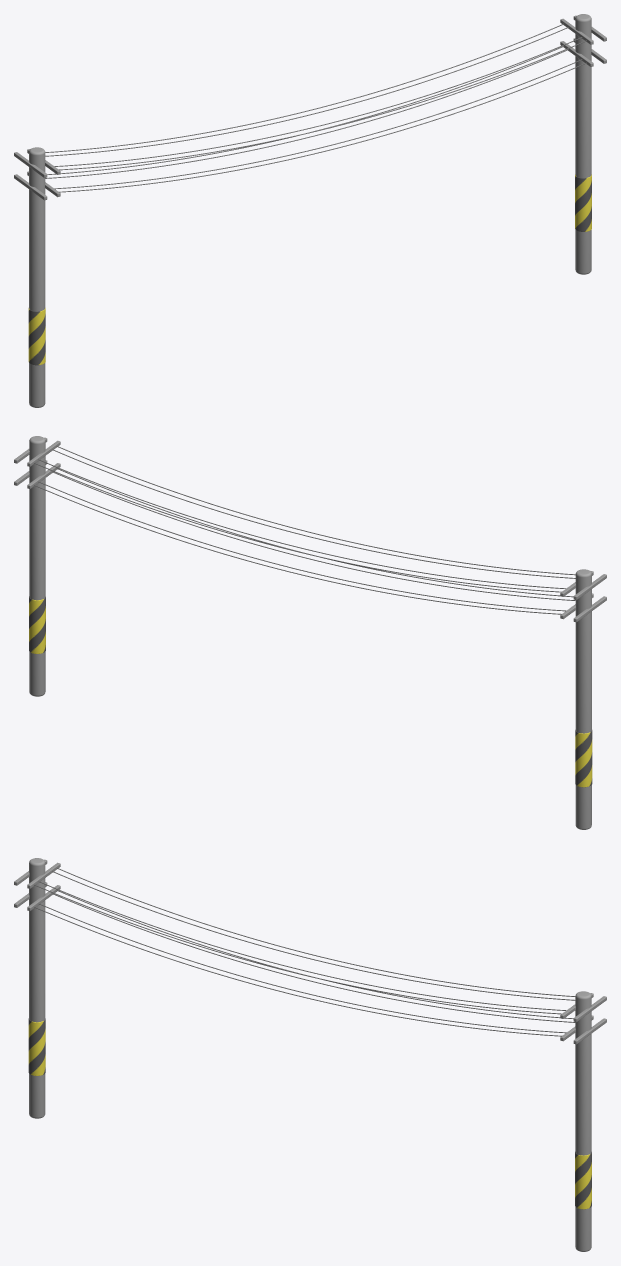
Rendered from pole2.glb.
3 renders of one model, top to bottom at view 1: azimuth 30°, elevation 25°; view 2: azimuth 150°, elevation 25°; view 3: azimuth 330°, elevation 25°, orthographic.
Parts seen in each view (by area): view 1: Cylinder_5; view 2: Cylinder_5; view 3: Cylinder_5.
Boxes of the visible parts, <box> form: Cylinder_5: <box>14,14,606,407</box>; Cylinder_5: <box>14,436,606,829</box>; Cylinder_5: <box>14,858,606,1251</box>.
Bounding box in the file's own units: 21.33 × 9.25 × 2.
4 materials, 1 textured.
